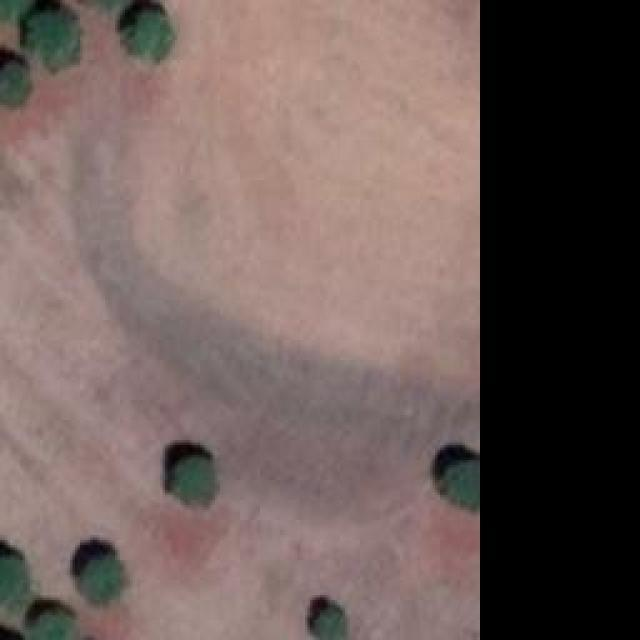Tree: (27, 10, 85, 70), (165, 455, 213, 510), (125, 10, 175, 60), (75, 558, 120, 608), (440, 458, 478, 511), (0, 550, 28, 605), (28, 610, 73, 640), (0, 58, 28, 103), (313, 605, 346, 640)
